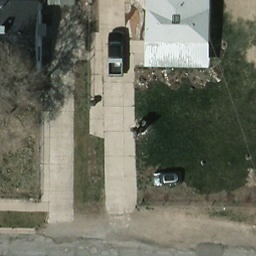car: (148, 168, 182, 186)
pickup: (108, 32, 124, 79)
